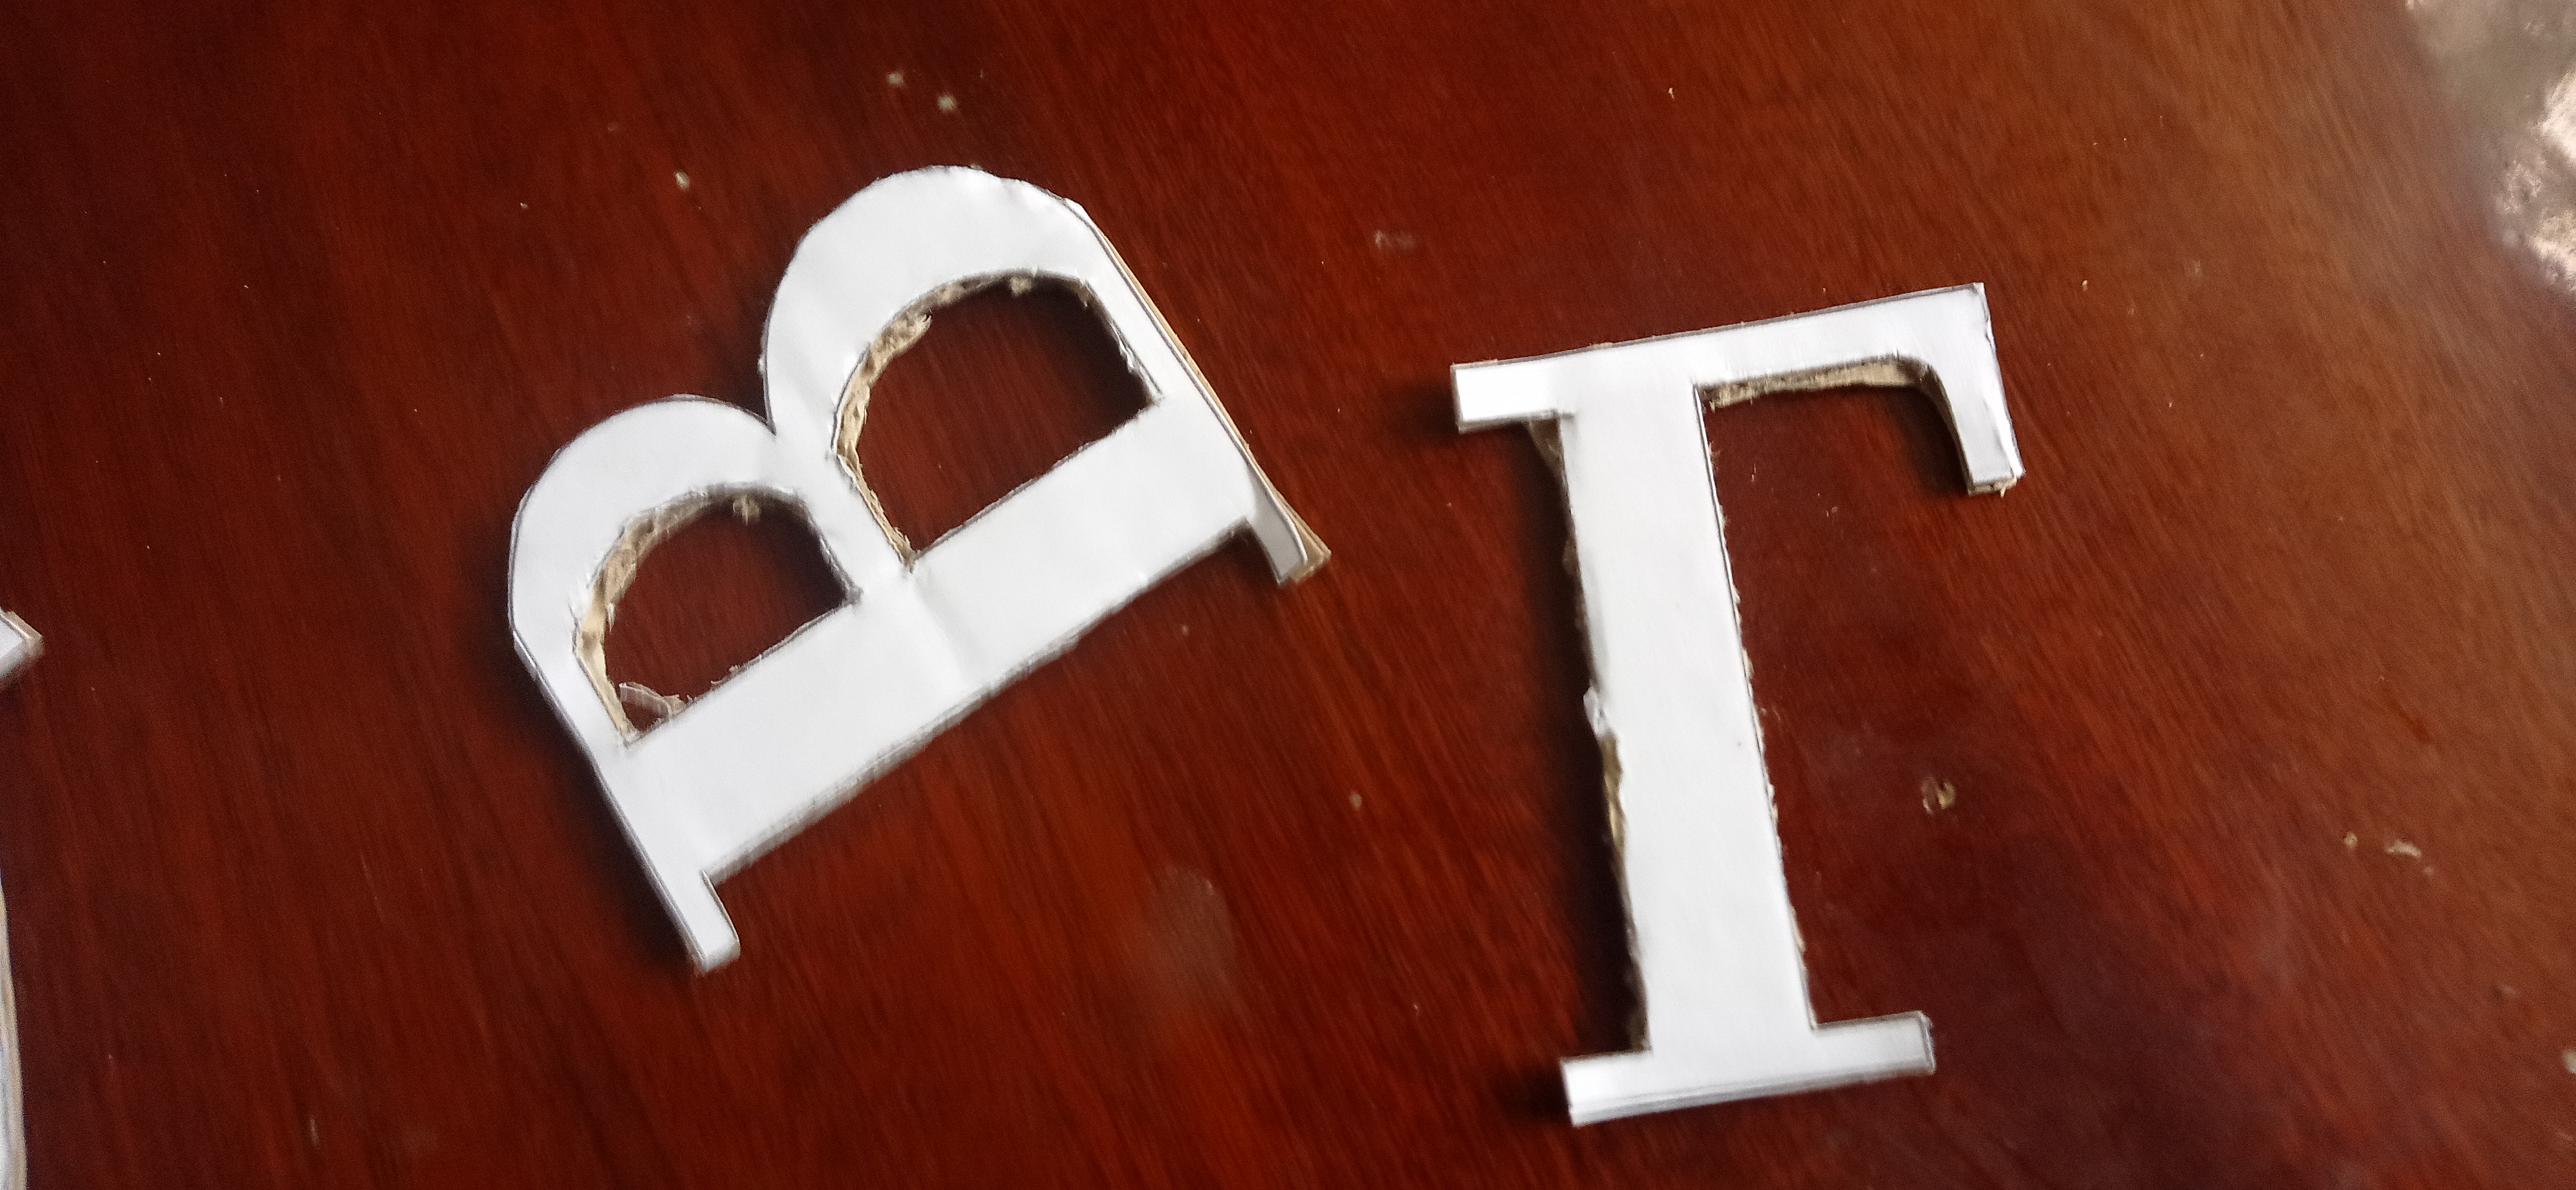g: (1446, 274, 2029, 1134)
v: (501, 159, 1334, 978)
